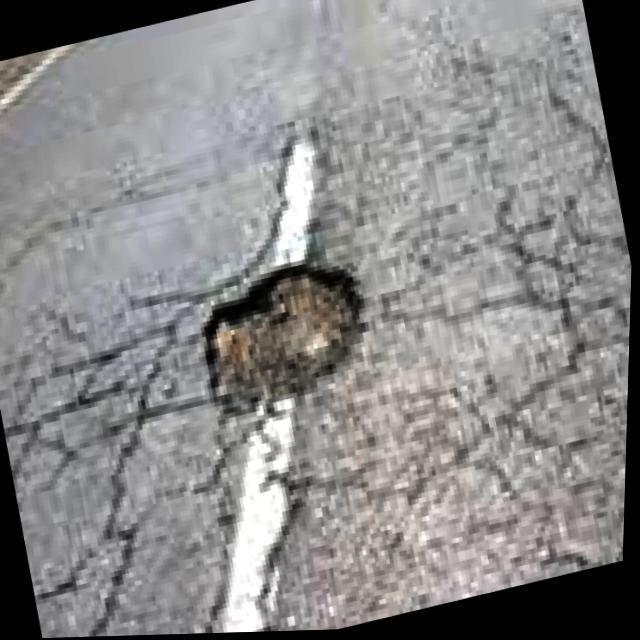Pothole: (211, 268, 369, 412)
